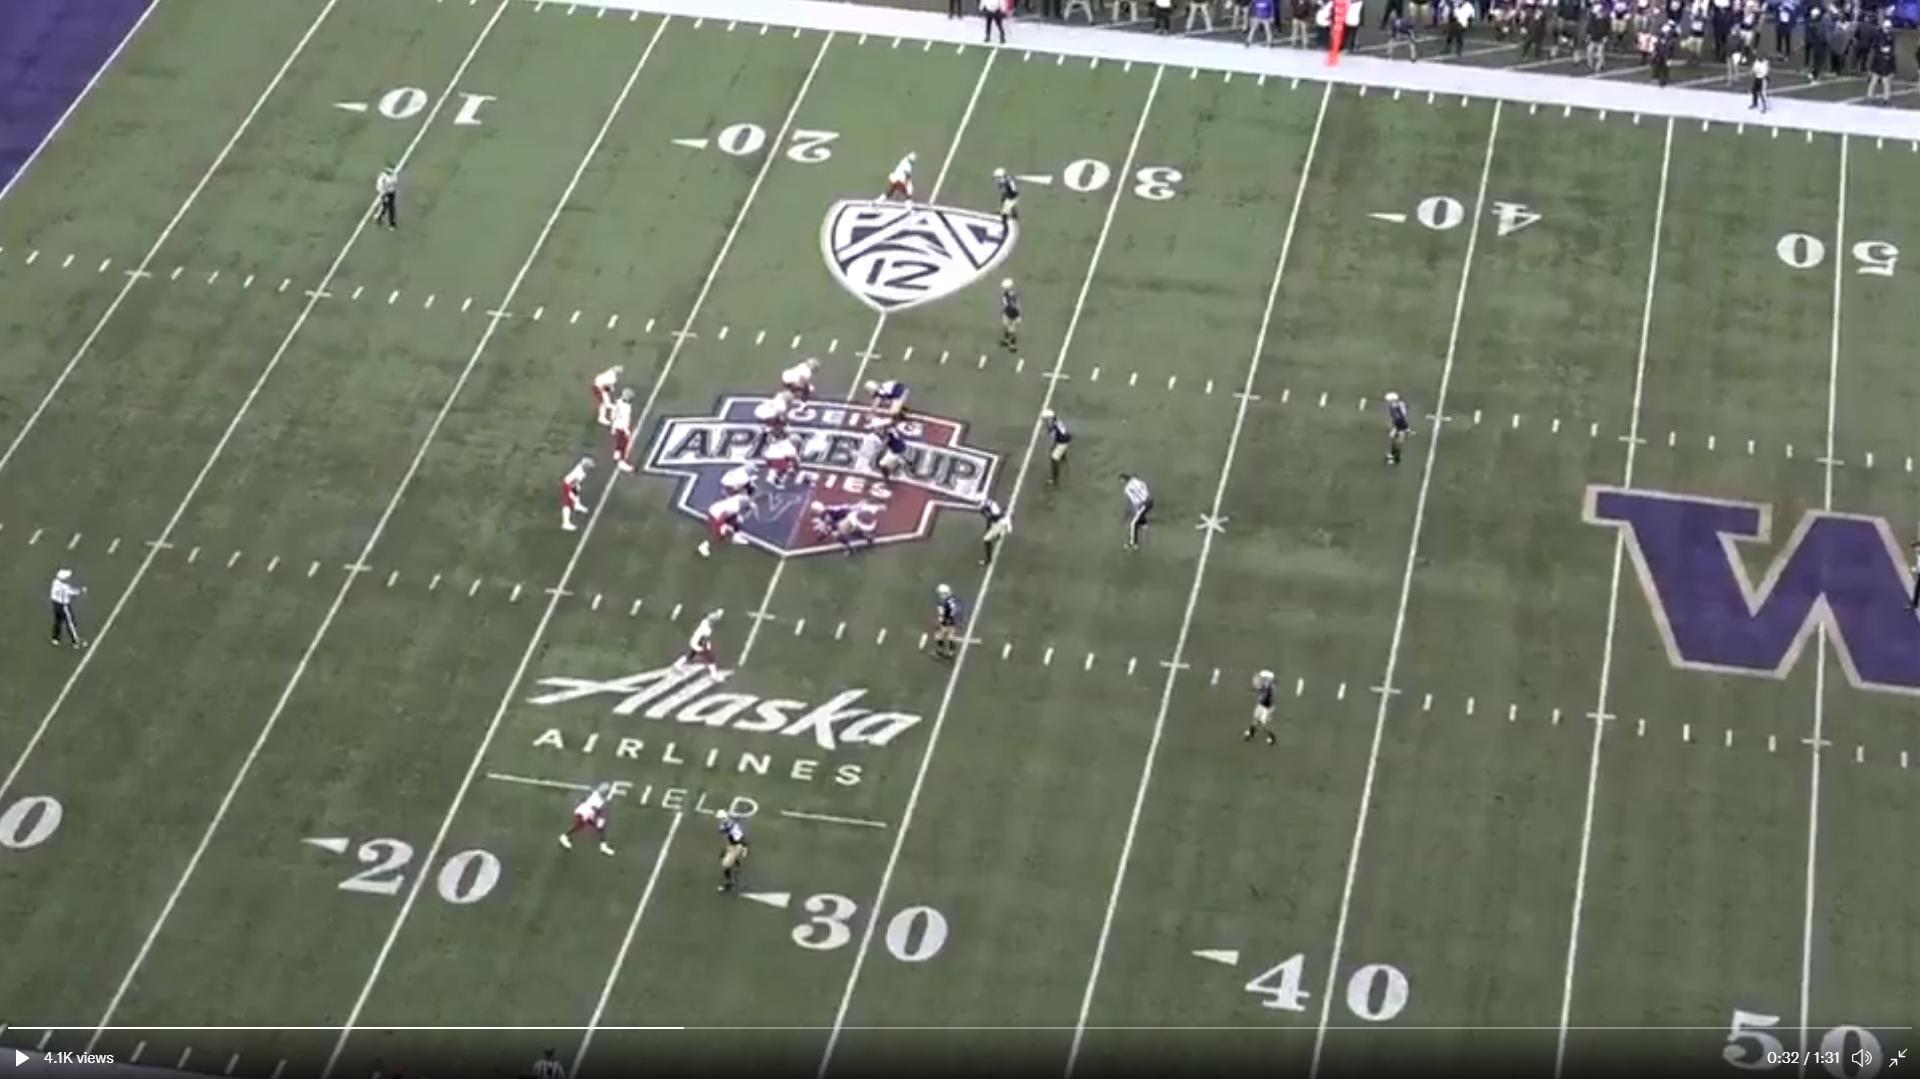player: (553, 777, 619, 859), (669, 604, 733, 684), (804, 499, 875, 558), (713, 801, 756, 896), (700, 492, 759, 558), (1240, 665, 1284, 751), (556, 452, 598, 539), (772, 355, 827, 421), (1038, 409, 1080, 492), (1377, 387, 1417, 474), (857, 376, 917, 434), (927, 579, 972, 655), (872, 148, 923, 213), (608, 384, 642, 480), (974, 489, 1013, 568), (762, 432, 812, 492), (871, 417, 908, 493), (996, 272, 1027, 358), (992, 161, 1021, 242), (753, 388, 797, 440), (594, 363, 623, 431), (717, 462, 762, 501)
ref: (48, 565, 90, 655), (1121, 471, 1160, 555), (376, 163, 413, 237), (1746, 51, 1779, 118), (976, 0, 1010, 49)
